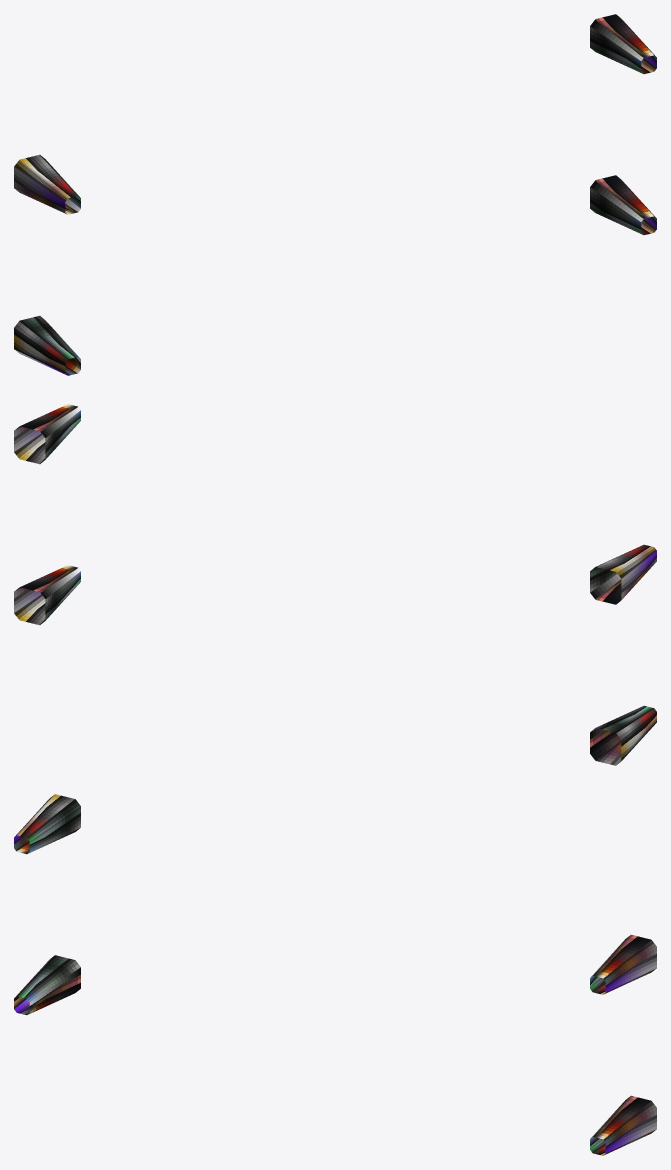
File: Corvette Exhaust.fbx
3 views of the same model, one above another, from view 1: azimuth 30°, elevation 25°; view 2: azimuth 150°, elevation 25°; view 3: azimuth 330°, elevation 25° (orthographic).
Visible parts, largest first — view 1: Corvette Engine.BR.001, Corvette Engine.TL.001, Corvette Engine.TR.001, Corvette Engine.BL.001; view 2: Corvette Engine.BR.001, Corvette Engine.TL.001, Corvette Engine.BL.001, Corvette Engine.TR.001; view 3: Corvette Engine.BL.001, Corvette Engine.TR.001, Corvette Engine.TL.001, Corvette Engine.BR.001.
Part boxes in pixels (x1,y1,x2,y2): Corvette Engine.BR.001: (590, 175, 656, 235); Corvette Engine.TL.001: (14, 154, 80, 214); Corvette Engine.TR.001: (590, 14, 656, 74); Corvette Engine.BL.001: (14, 315, 80, 375); Corvette Engine.BR.001: (14, 565, 80, 625); Corvette Engine.TL.001: (590, 544, 656, 604); Corvette Engine.BL.001: (590, 705, 656, 765); Corvette Engine.TR.001: (14, 404, 80, 464); Corvette Engine.BL.001: (14, 955, 80, 1015); Corvette Engine.TR.001: (590, 934, 656, 994); Corvette Engine.TL.001: (14, 794, 80, 854); Corvette Engine.BR.001: (590, 1095, 656, 1155).
Size of the model in its own units: 162 by 20.04 by 49.44.
